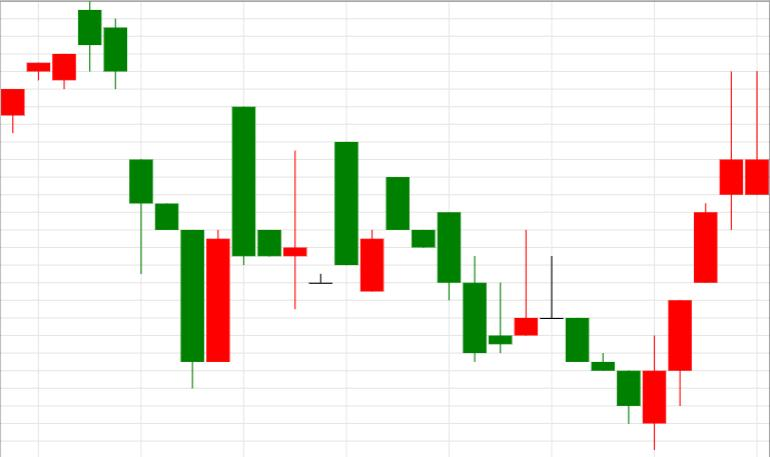three_white_soldiers_rise: (539, 201, 718, 450)
